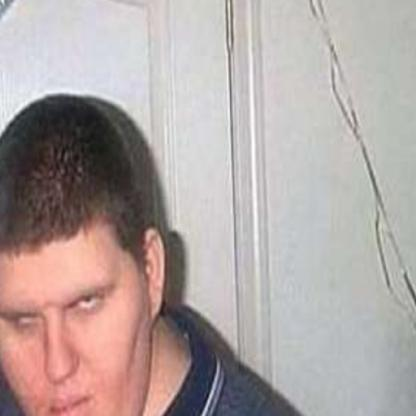knife: (0, 0, 134, 266)
